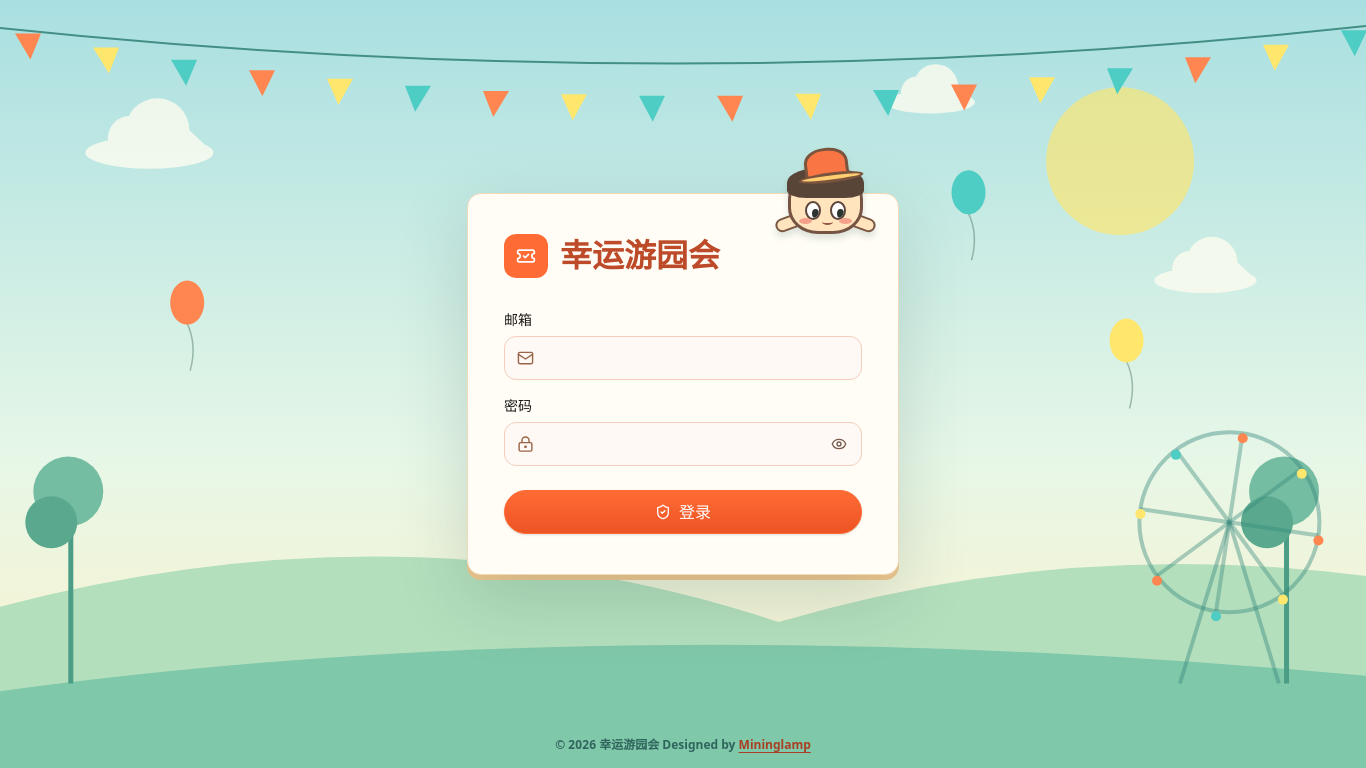
login fields can be cleared and password visibility toggled
Type "teacher@example.com" into the field labelled "邮箱" at (683, 358), box [504,336,862,380]
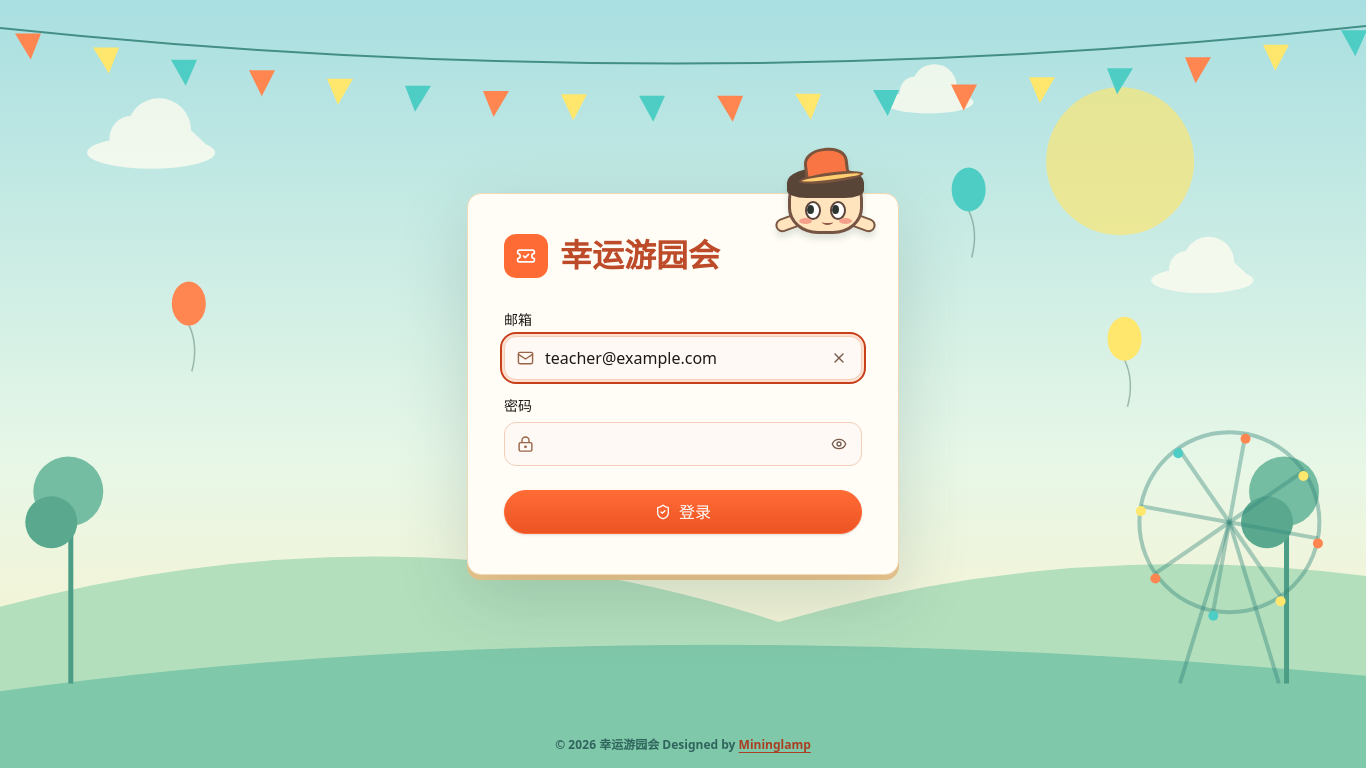
Type "secret123" into the password field labelled "密码" at (683, 444), box [504,422,862,466]
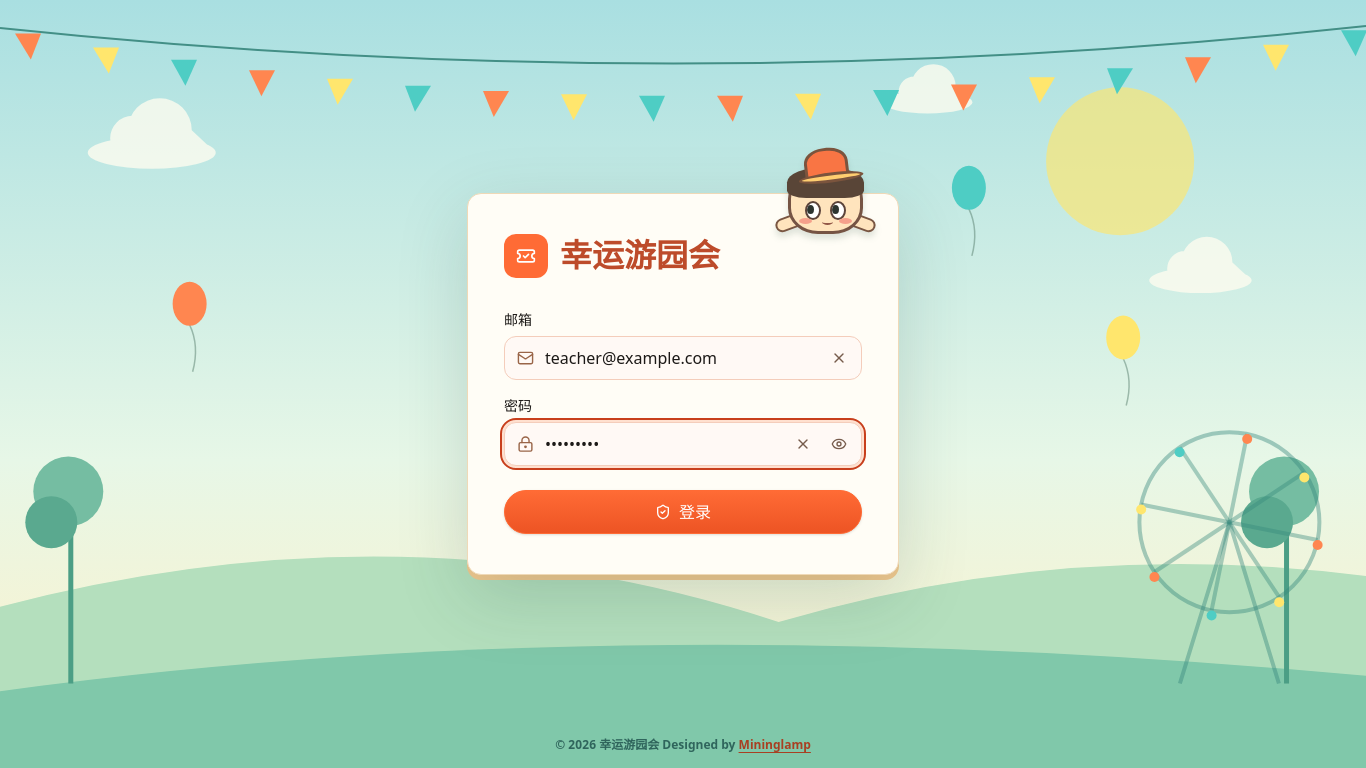
Click the button named "显示密码" at (839, 444), box [819,424,859,464]
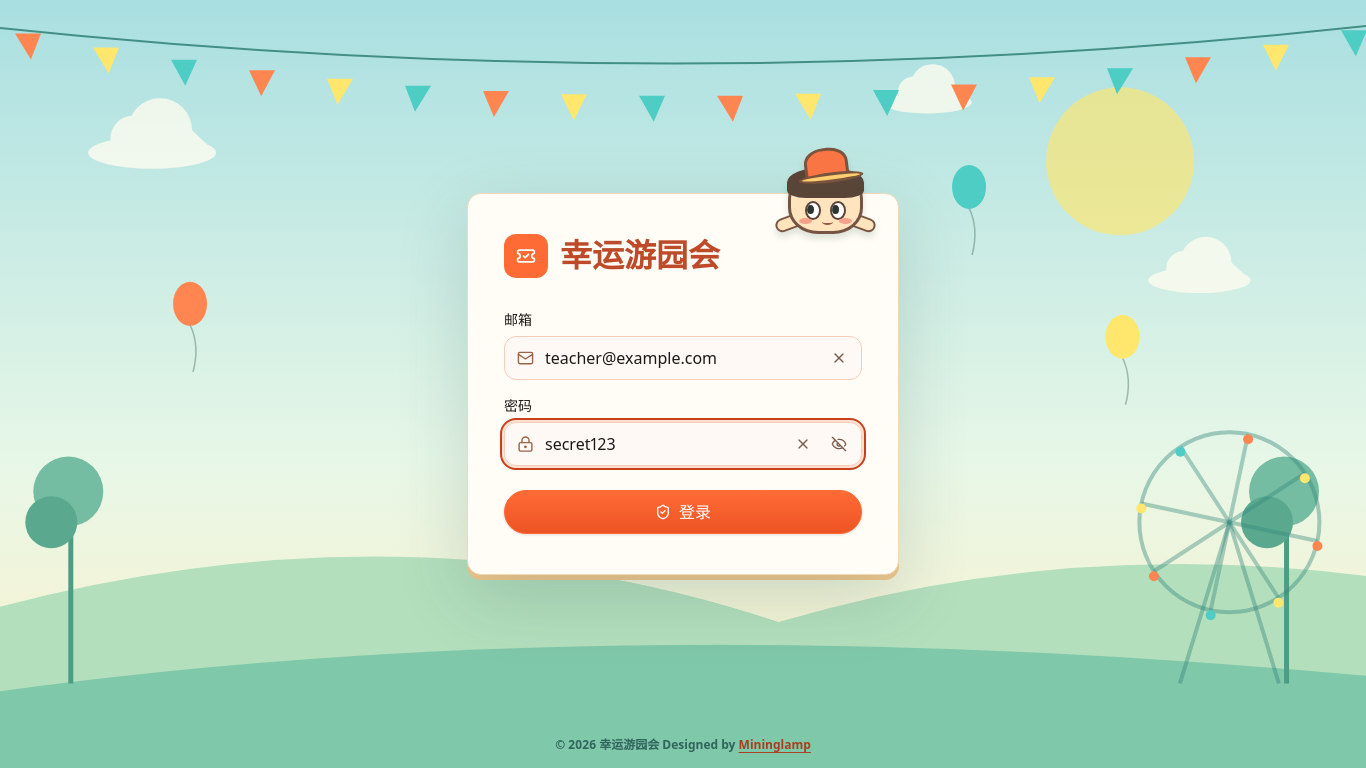
Result: the field labelled "密码" shows its text at [504,422,862,466]
Click the button named "隐藏密码" at (839, 444), box [819,424,859,464]
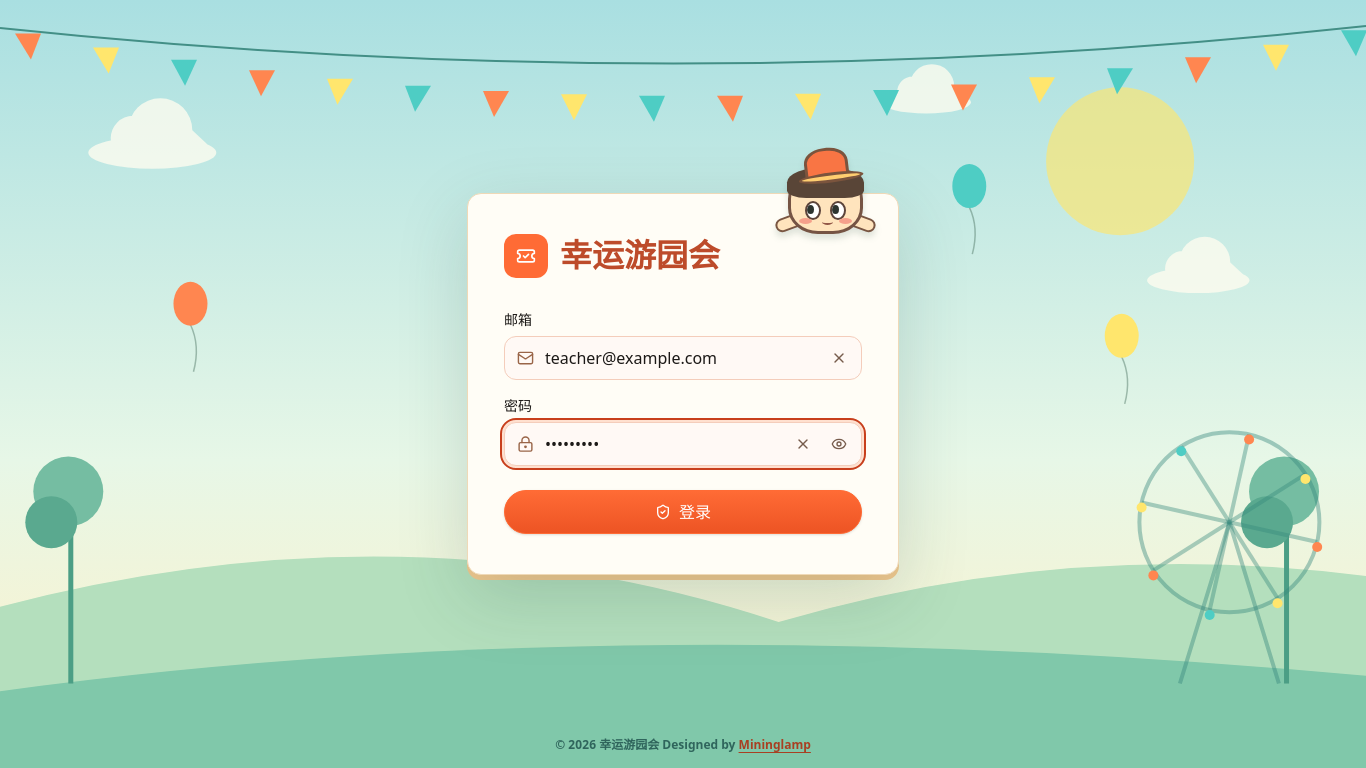
Result: the password field labelled "密码" hides its text at [504,422,862,466]
Click the button named "清空邮箱" at (839, 358), box [819,338,859,378]
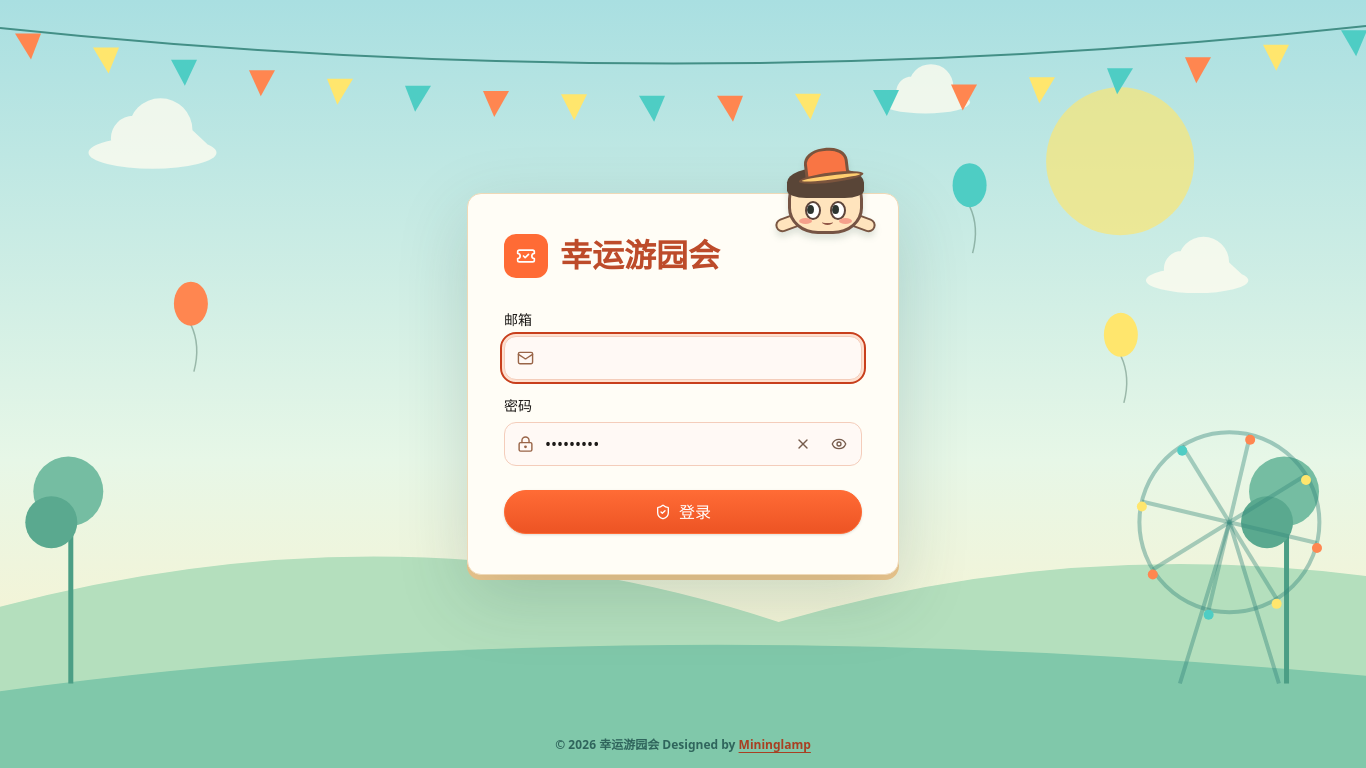
Result: the field labelled "邮箱" is empty at [504,336,862,380]
Click the button named "清空密码" at (803, 444), box [783,424,823,464]
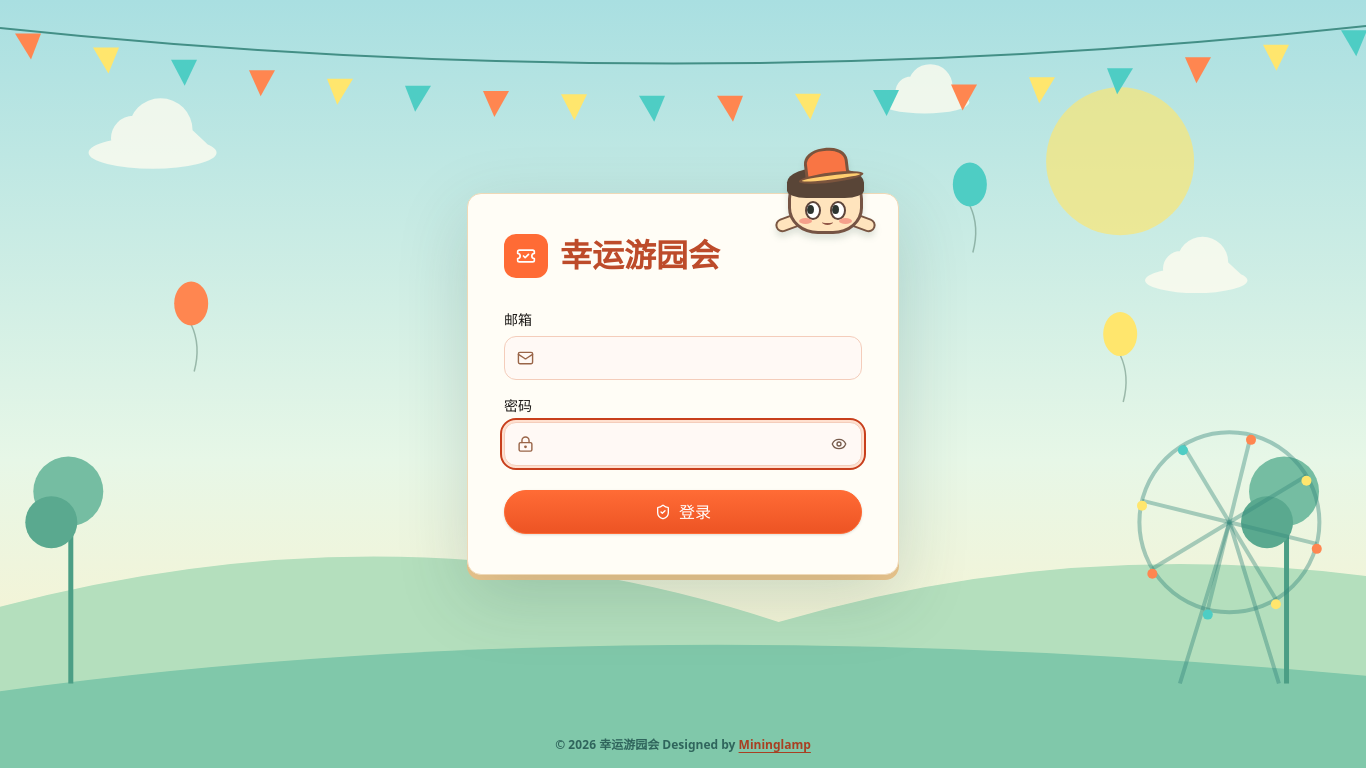
Result: the password field labelled "密码" is empty at [504,422,862,466]
